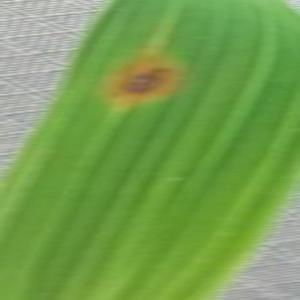0 BrownSpot: (99, 46, 190, 116)
